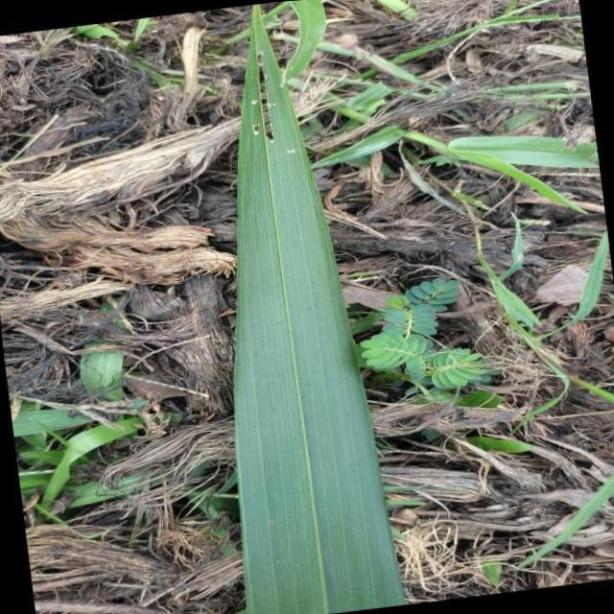Boron: (234, 0, 404, 614)
